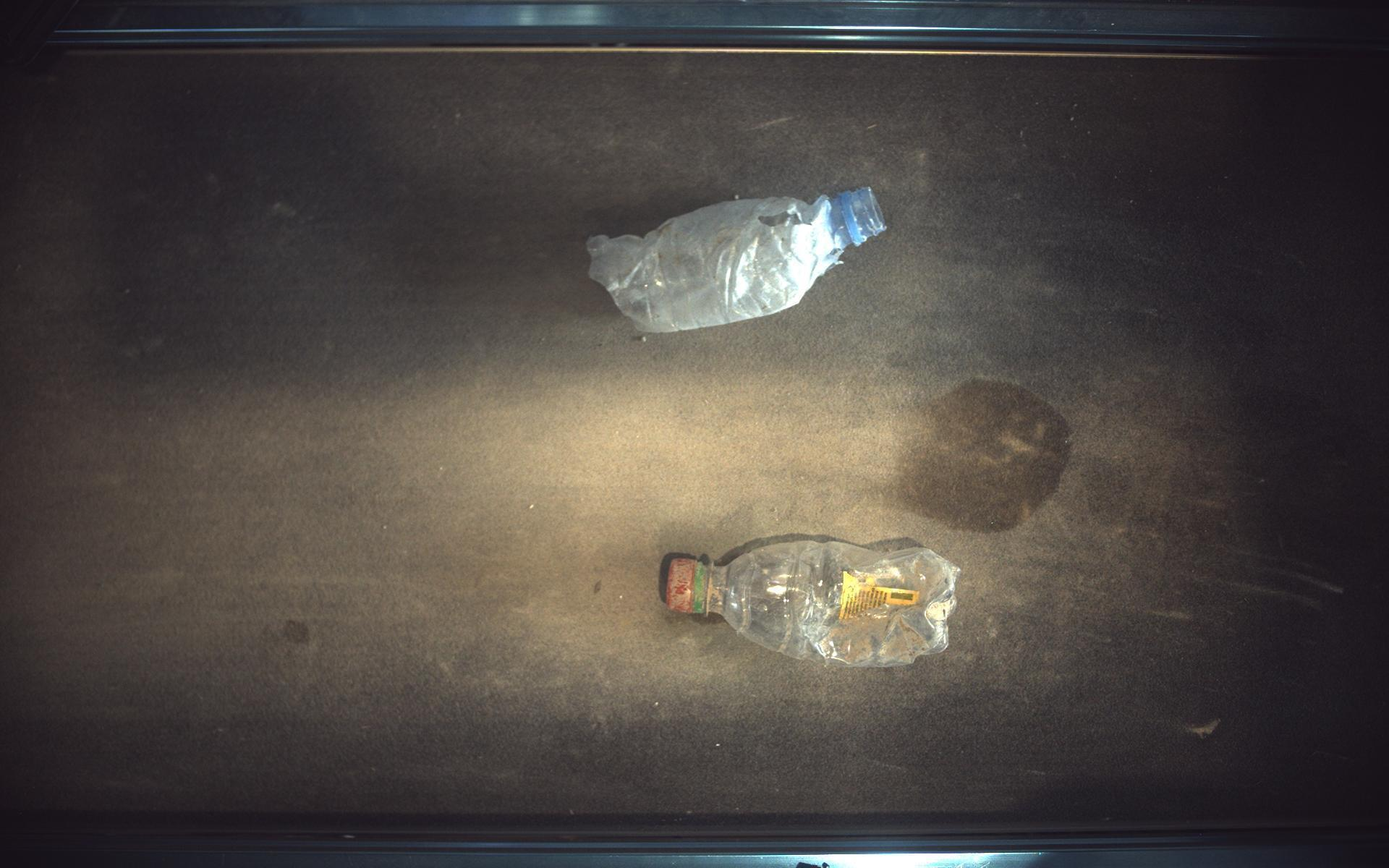general_w: (587, 187, 887, 332), (660, 535, 961, 668)
